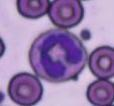N: (28, 29, 87, 83)
